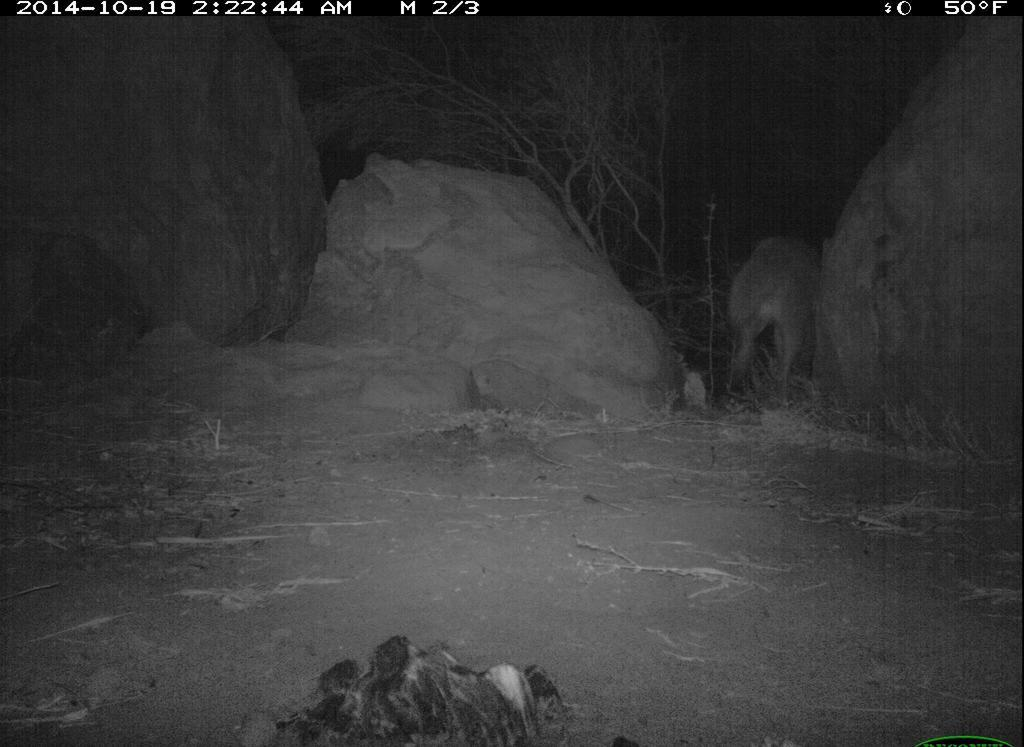coyote: (710, 204, 843, 442)
